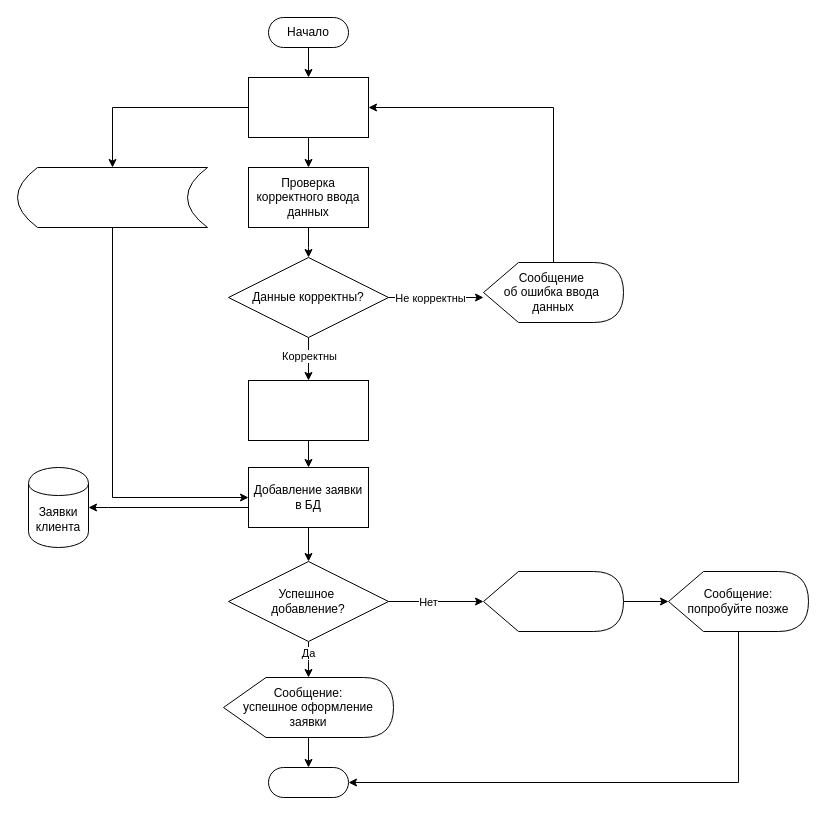
Image size: 826x815. Some labels were removed from this diagram. Here are the shapes that lost their labels. From the top down, the box of each, then its label:
(248, 76, 368, 138): Ввод данных
(16, 166, 208, 228): Данные пользователя для заявки
(248, 380, 368, 440): Оформление заявки
(482, 570, 624, 632): Сообщение: ошибка оформления
(268, 766, 348, 798): Конец
